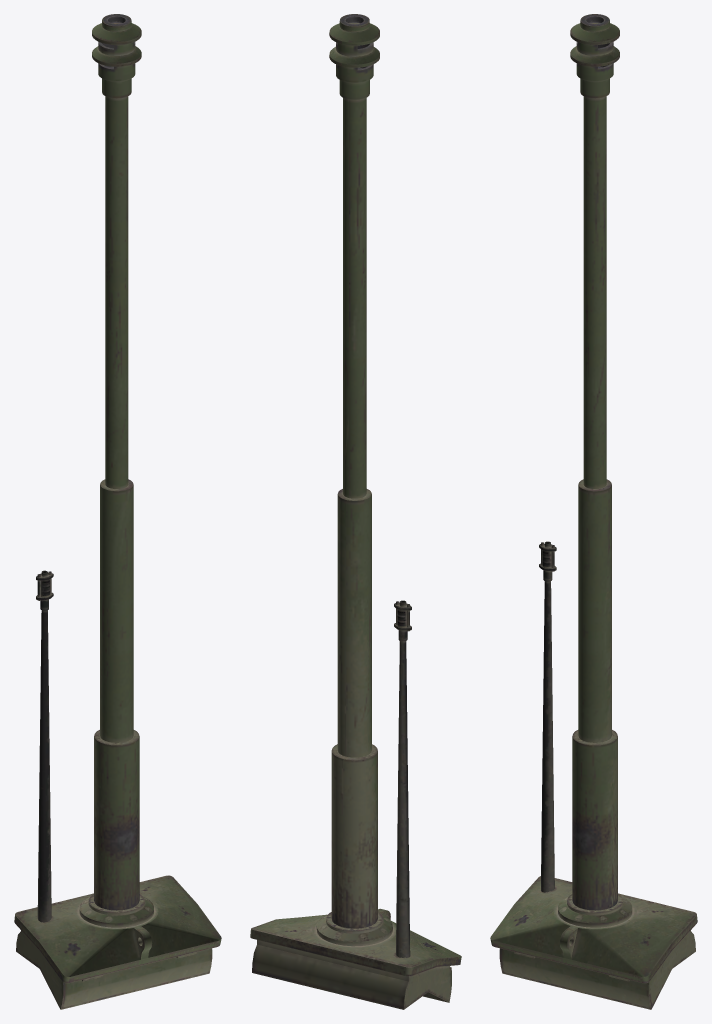
File: Gun_01.glb
3 renders of one model, left to right at view 1: azimuth 30°, elevation 25°; view 2: azimuth 150°, elevation 25°; view 3: azimuth 330°, elevation 25°, orthographic. The views are drawn at different scales.
Parts seen in each view (by area): view 1: set_0_group_0; view 2: set_0_group_0; view 3: set_0_group_0.
Boxes of the visible parts, box(x1,y1,x2,y2) form: set_0_group_0: box(14, 14, 221, 1009); set_0_group_0: box(250, 14, 461, 1009); set_0_group_0: box(490, 14, 697, 1009).
Bounding box in the file's own units: 0.9109 × 5.29 × 0.5804.
1 material, 1 textured.
